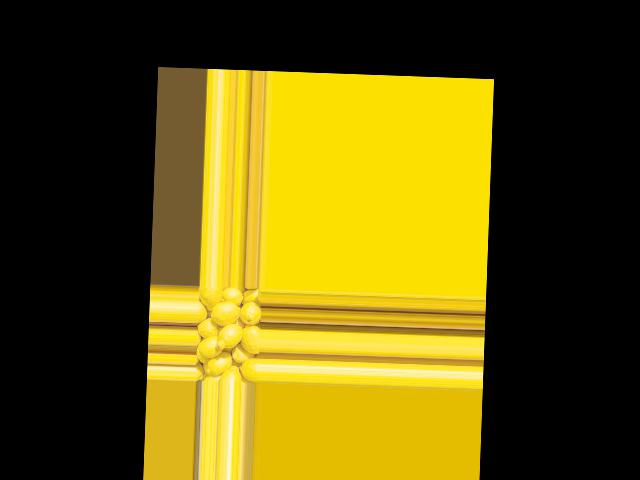lemon: (196, 337, 222, 361)
